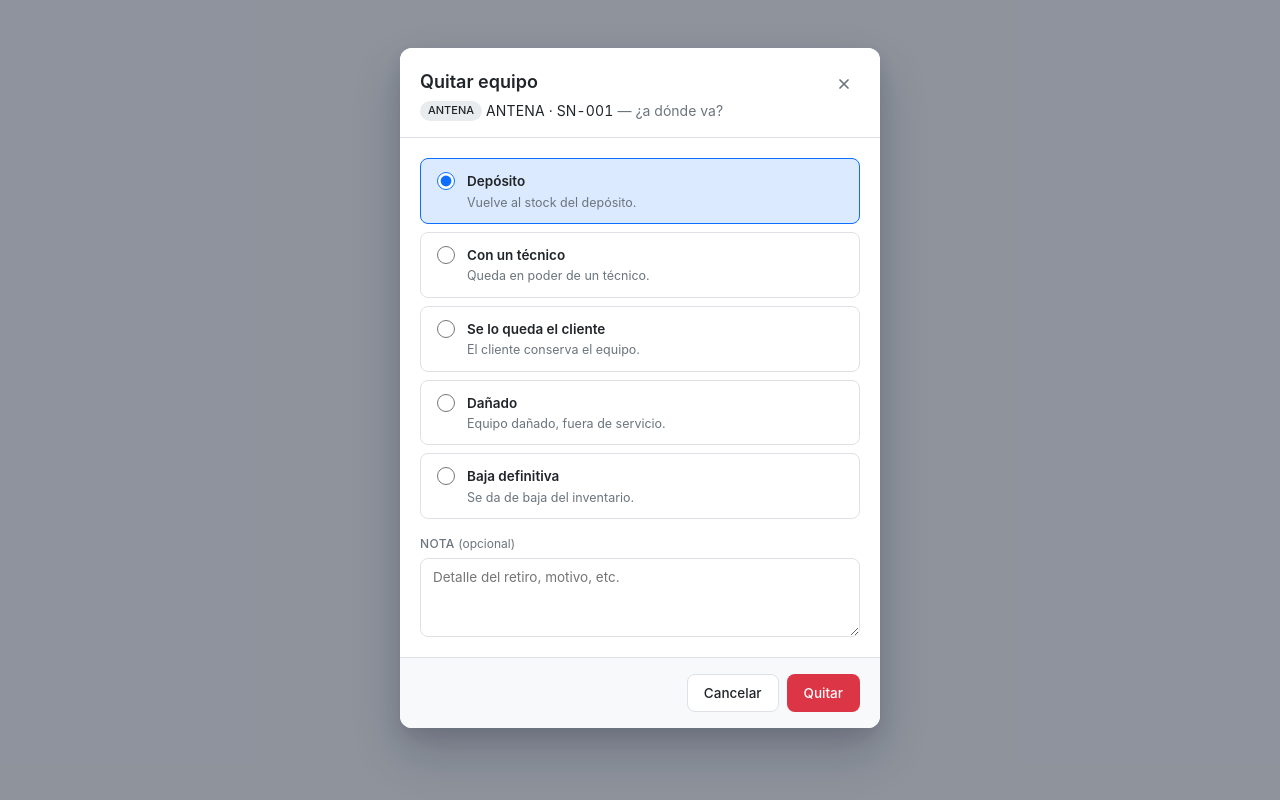
Test: RetireInstalledItemModal › on a 409 ASSET_NOT_INSTALLED shows the clear message and does NOT close
What coordinates should you click on to do the following:
click the button "Quitar"
I would click on:
 (823, 693)
Its box is [786, 674, 860, 712].
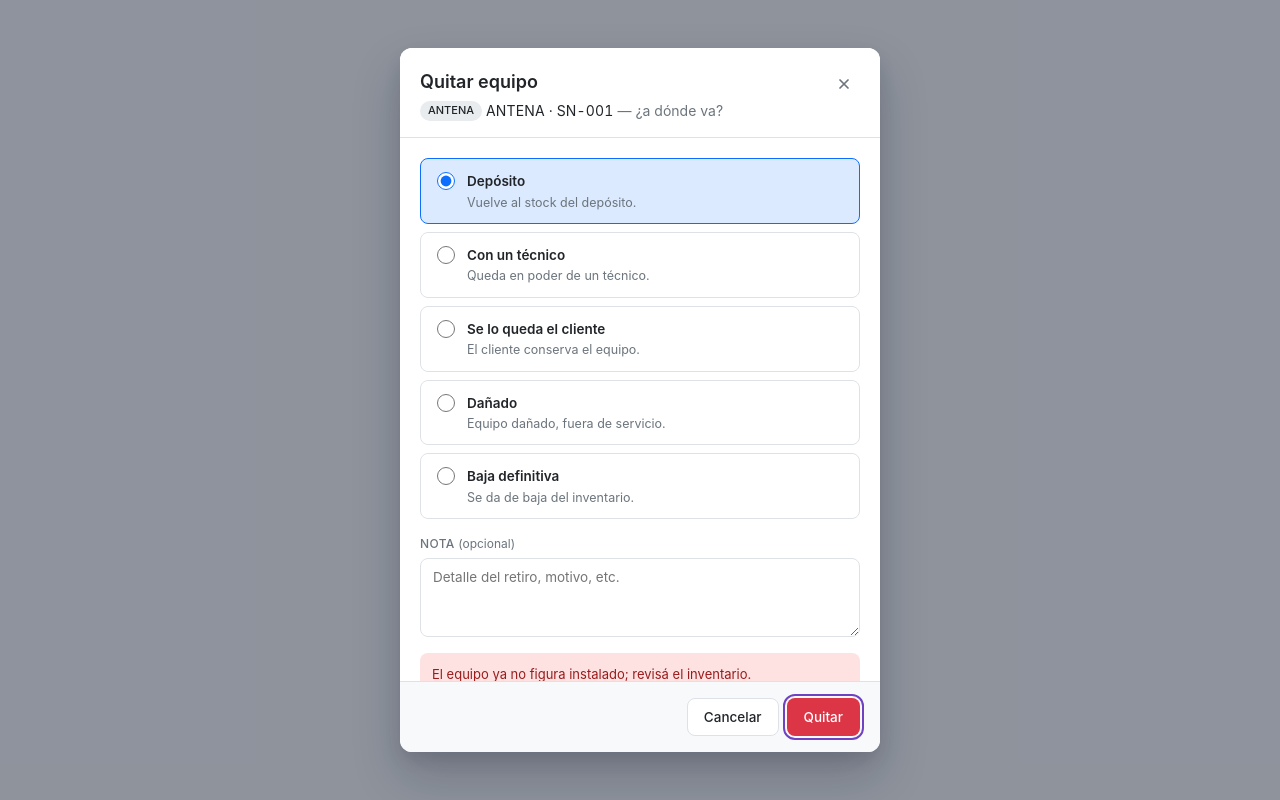
Now the text "El equipo ya no figura instalado; revisá el inventario." is shown, box [420, 653, 860, 681]
